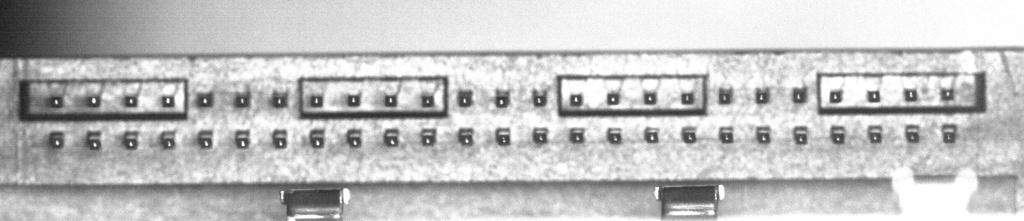pin_ok: (234, 129, 251, 149), (197, 129, 214, 149), (271, 128, 288, 148), (383, 127, 400, 147), (86, 129, 102, 150), (457, 127, 475, 145), (457, 88, 474, 107), (271, 89, 288, 108), (420, 127, 437, 146), (123, 130, 139, 150), (309, 128, 325, 148), (346, 128, 362, 148), (532, 126, 549, 144), (48, 130, 65, 148), (495, 88, 511, 107), (941, 124, 957, 143), (532, 88, 548, 107), (830, 125, 846, 144), (160, 130, 176, 149), (643, 126, 660, 143), (793, 126, 809, 144), (495, 127, 511, 145), (681, 126, 697, 143), (196, 91, 213, 107), (868, 125, 883, 143), (905, 125, 920, 143), (718, 86, 733, 104), (569, 127, 585, 143), (233, 91, 249, 107), (756, 126, 771, 143), (755, 87, 770, 104), (792, 86, 807, 103), (607, 127, 622, 143), (719, 127, 734, 143), (680, 91, 695, 105), (643, 90, 657, 105), (940, 87, 955, 101), (421, 93, 436, 107), (346, 93, 360, 107), (569, 92, 583, 106), (829, 89, 843, 103), (904, 88, 918, 102), (606, 91, 620, 105), (161, 94, 175, 108), (308, 94, 323, 107), (384, 93, 397, 107), (124, 94, 138, 107), (49, 95, 63, 108), (867, 89, 880, 102), (87, 95, 100, 107)
